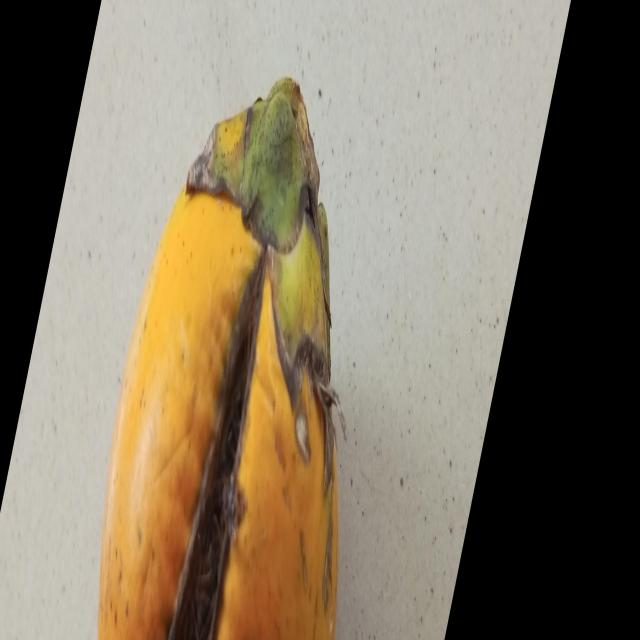damaged: (94, 79, 340, 640)
